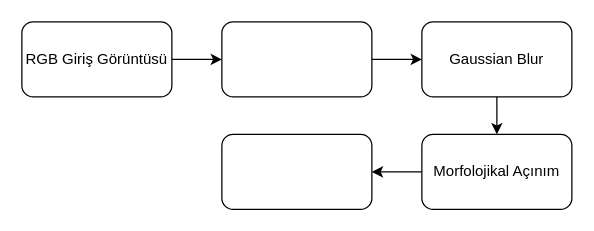
Image size: 594x231. Some labels were removed from this diagram. Each missing label, with the centre of its shape:
"Kanal Seçimi (Yeşil)" goes at point (296, 59).
"Region of Interest" goes at point (296, 171).
